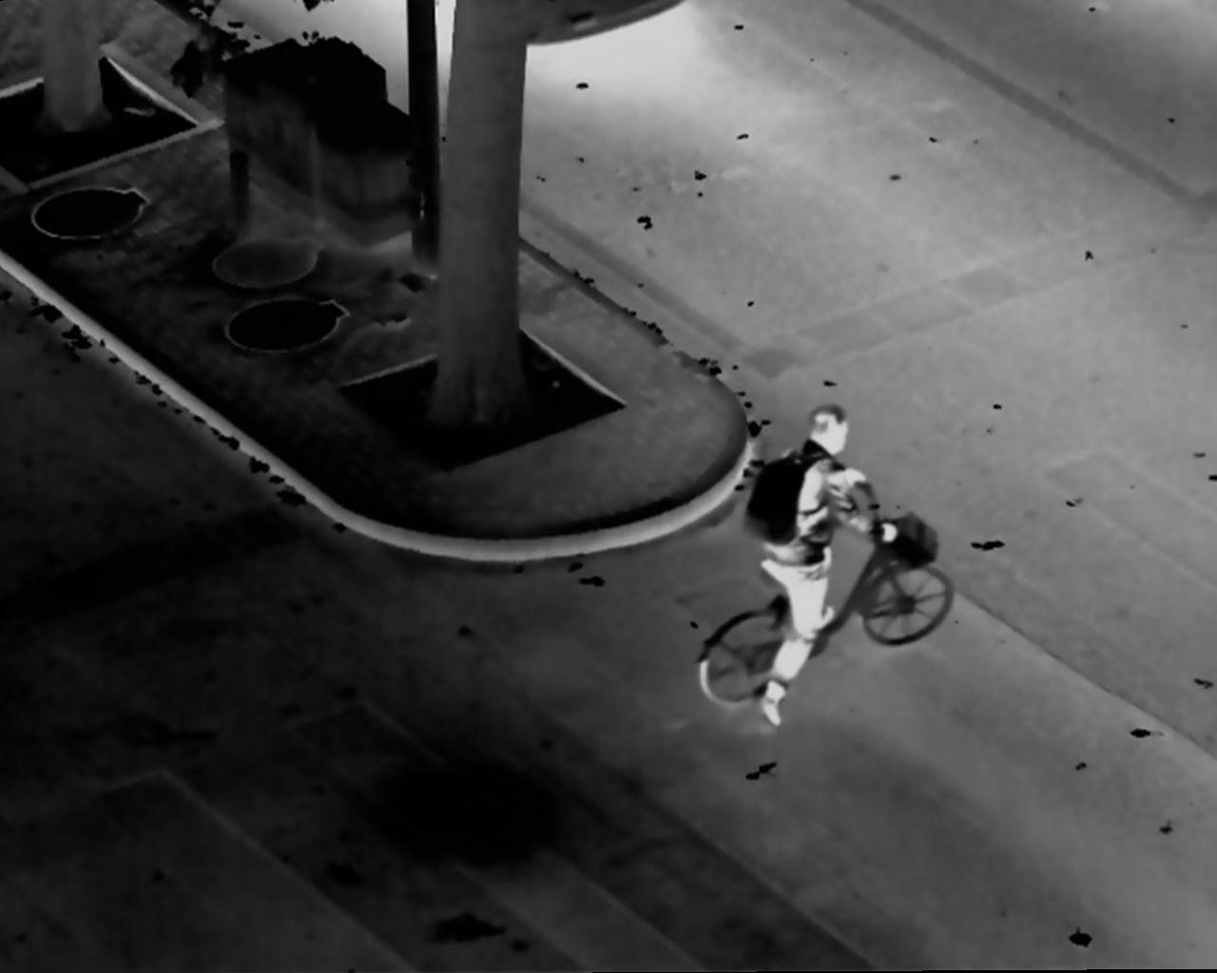person: (738, 404, 900, 729)
